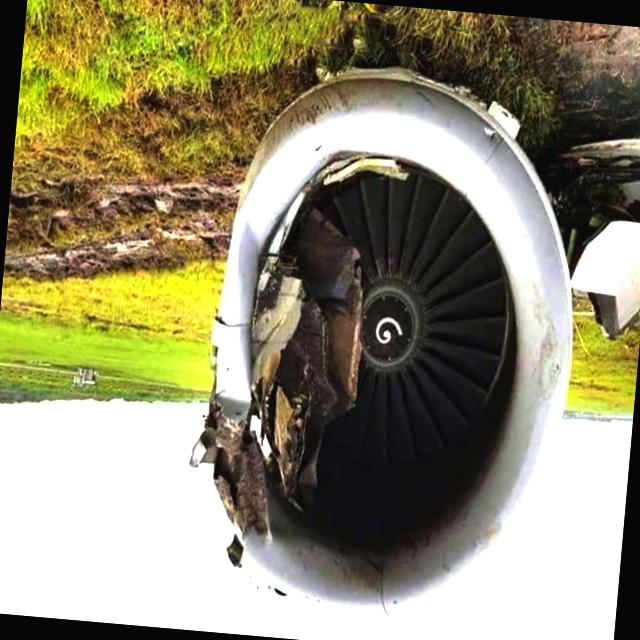dent: (224, 134, 274, 302), (204, 372, 255, 422)
